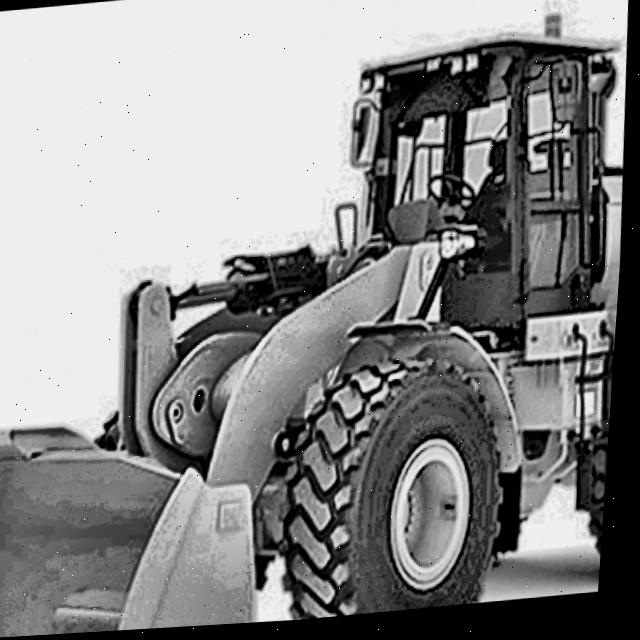buldozerpayloadergrader: (0, 8, 638, 640)
